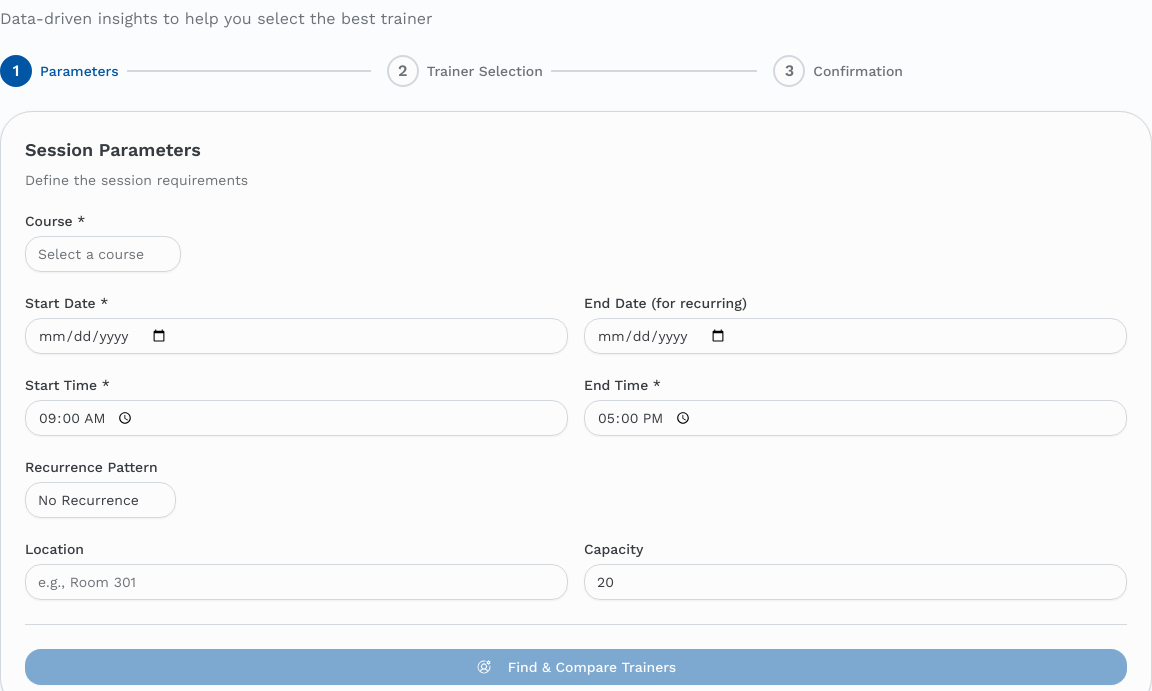
it: GuidedScheduler › analyzes and shows ranked trainer recommendations
Click the dropdown labelled "Select a course" at x=103, y=254, box [25,236,181,272]
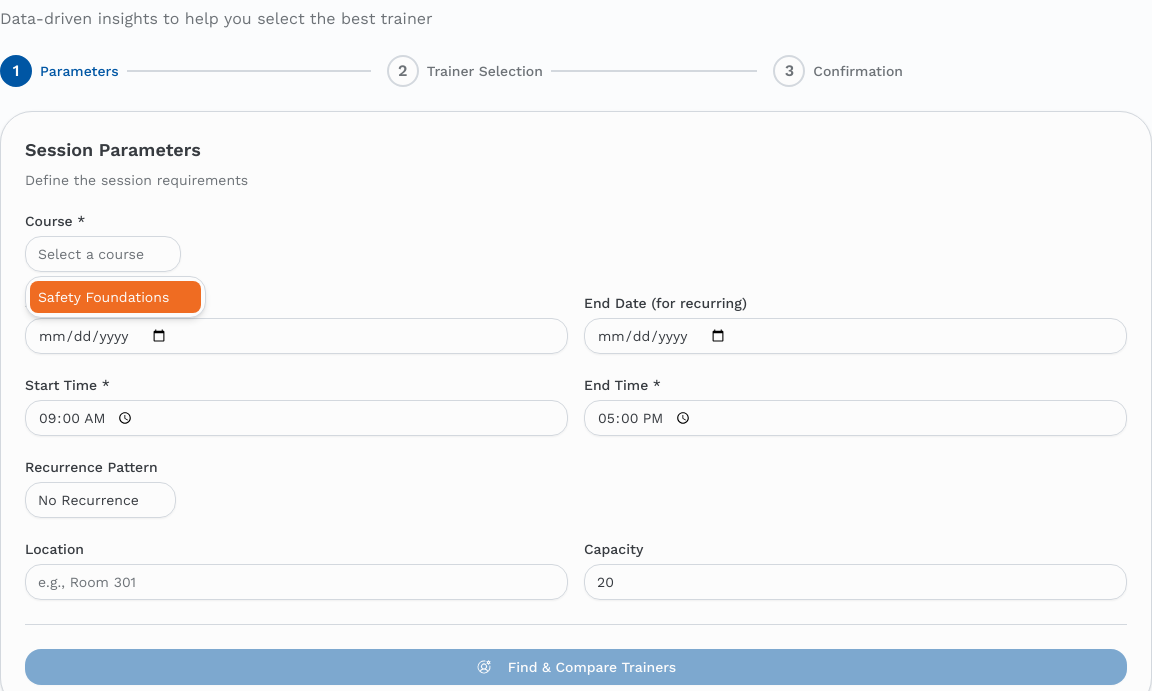
Click the option "Safety Foundations" at x=116, y=297, box [30,281,201,313]
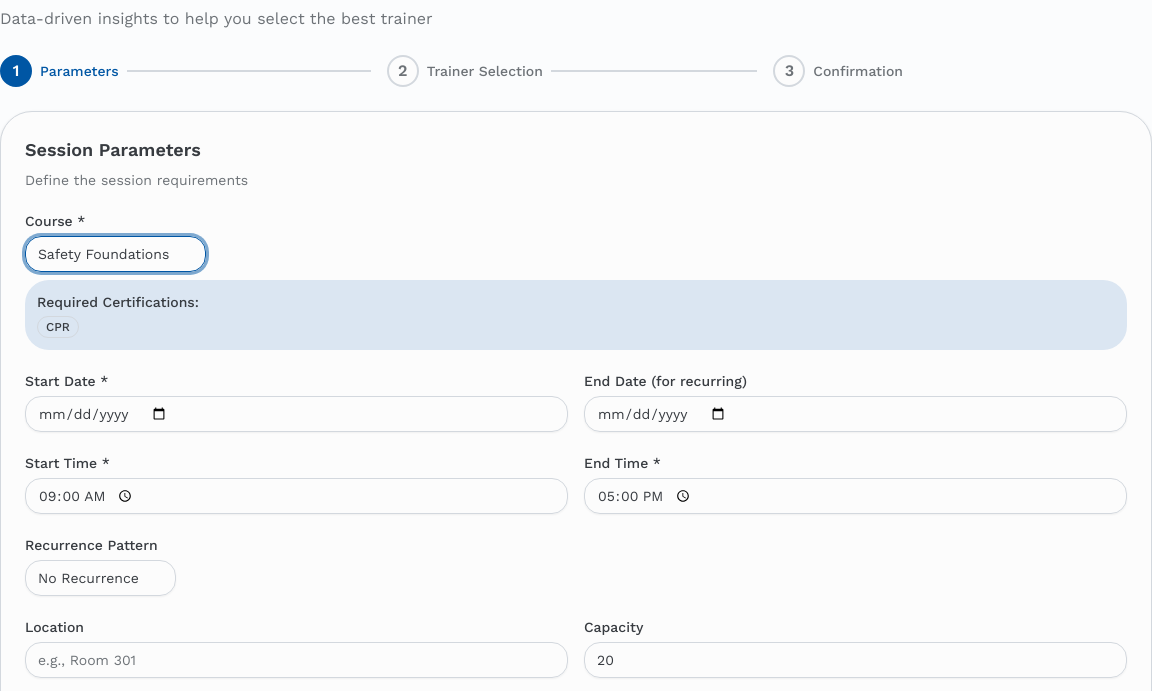
Type "2026-03-20" into the date field labelled "Start Date *" at x=296, y=414, box [25,396,568,432]
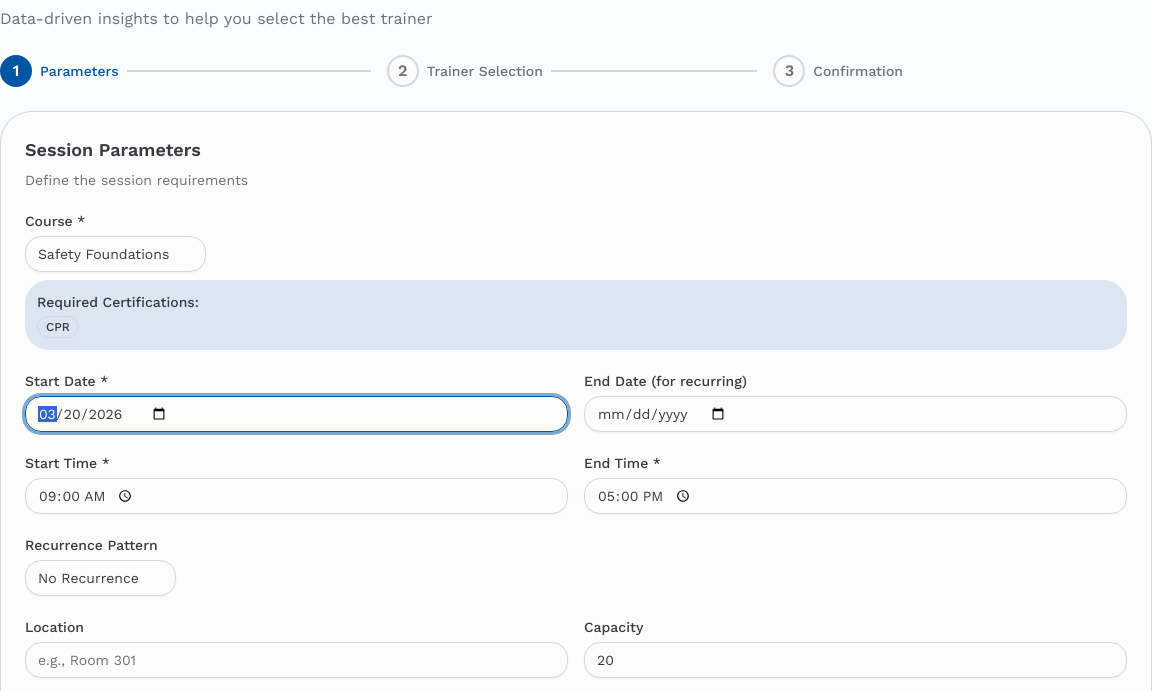
Press Tab
(page scrolled)
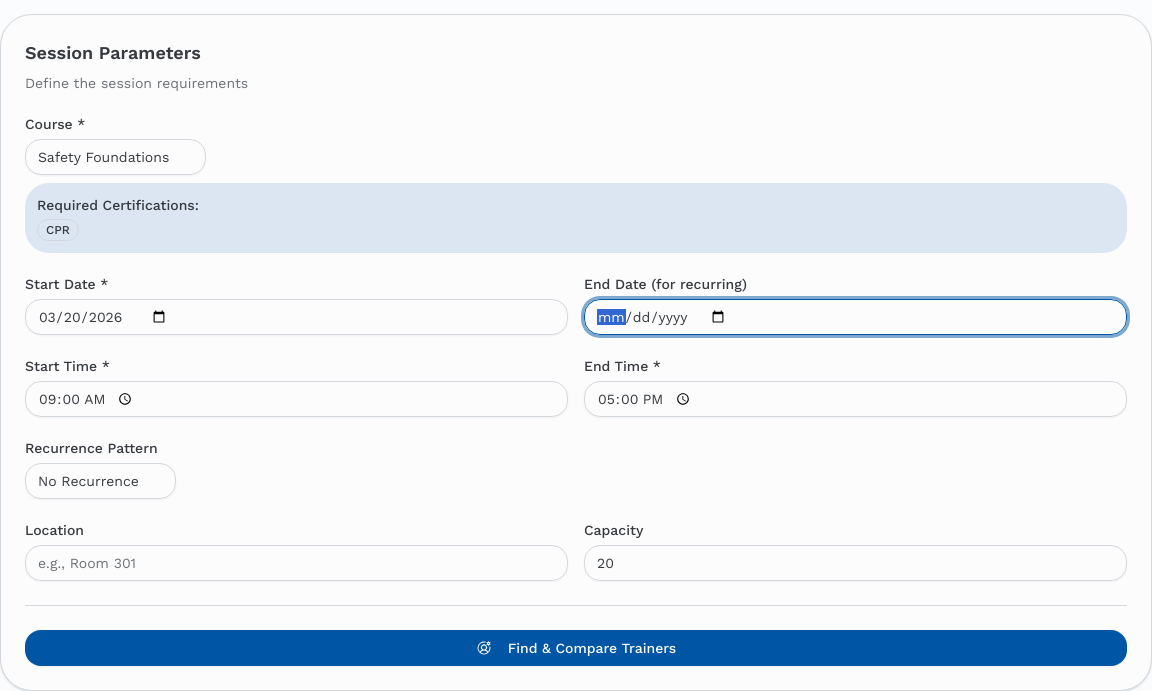
Click the button "Find & Compare Trainers" at x=576, y=648, box [25,630,1127,666]
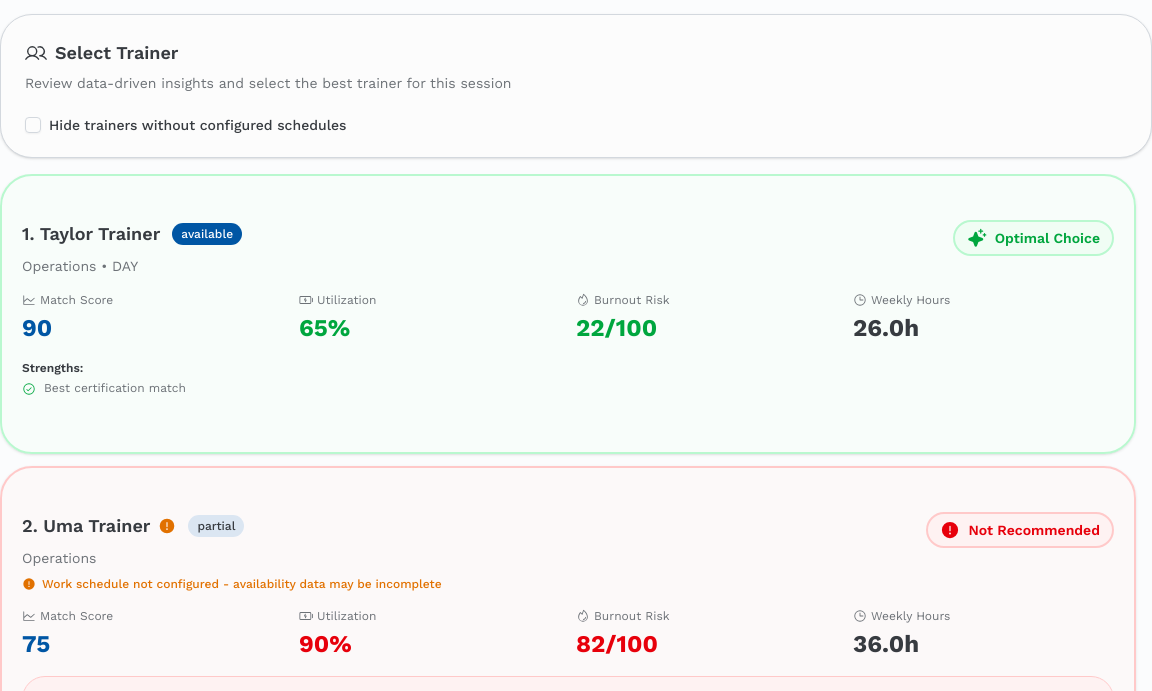
Expected: the text "Select Trainer" is shown, [25,42,178,64]
Expected: the text "1. Taylor Trainer" is shown, [22,220,160,248]
Expected: the text "2. Uma Trainer" is shown, [22,512,176,540]
